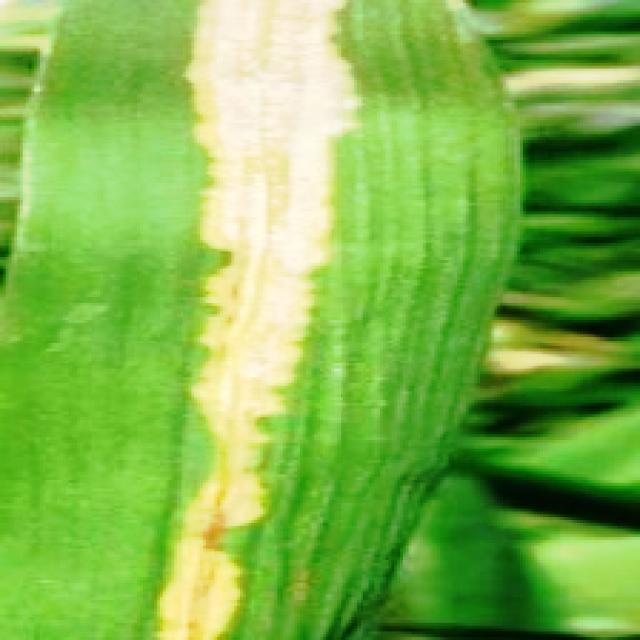unhealth: (56, 0, 377, 640), (366, 30, 367, 638)
